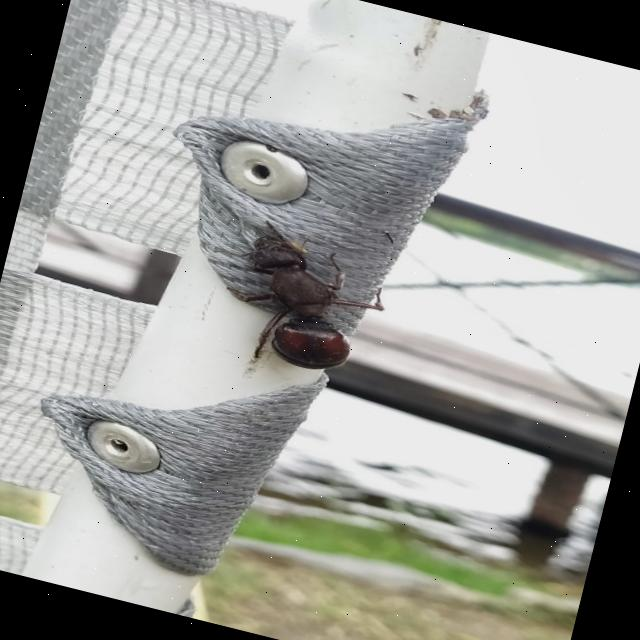Alive-Female-Dealate: (190, 209, 399, 385)
